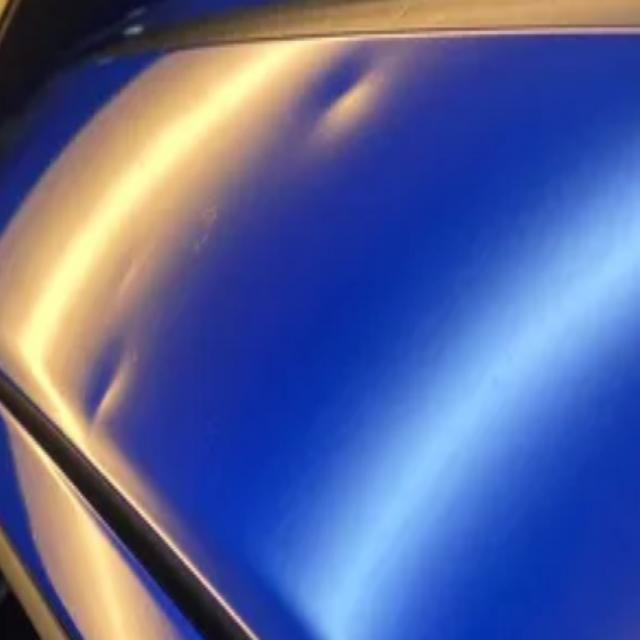dents: (56, 338, 176, 452), (287, 38, 433, 118), (100, 234, 164, 292)
